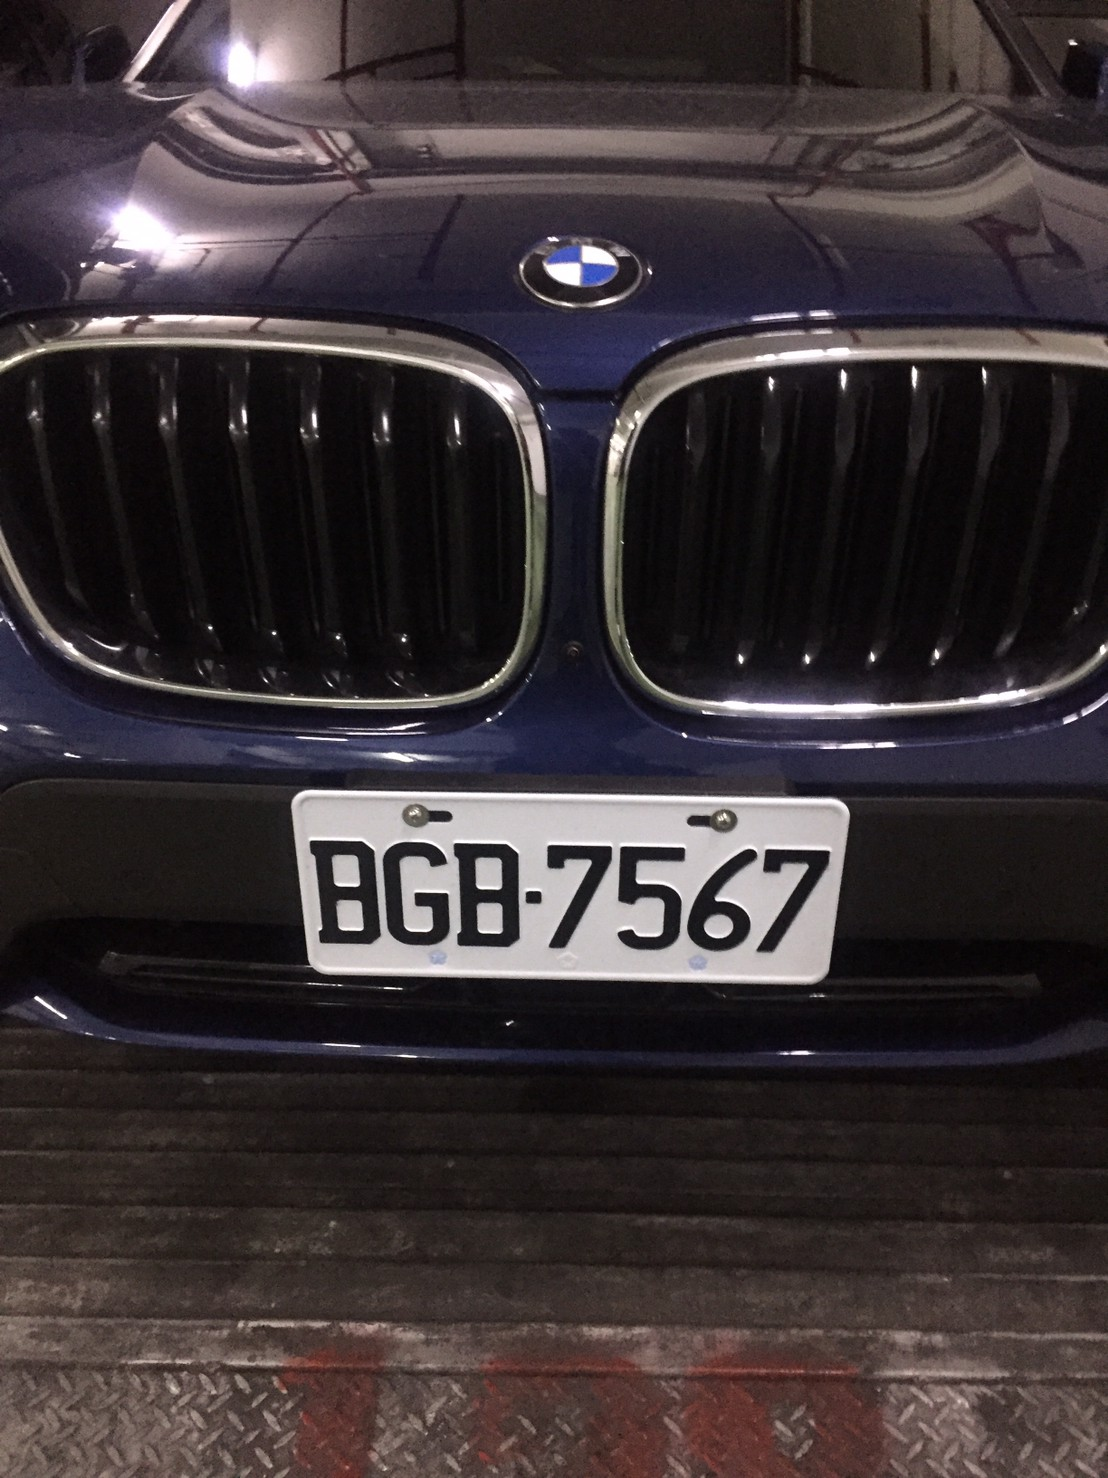LP: (292, 786, 844, 985)
